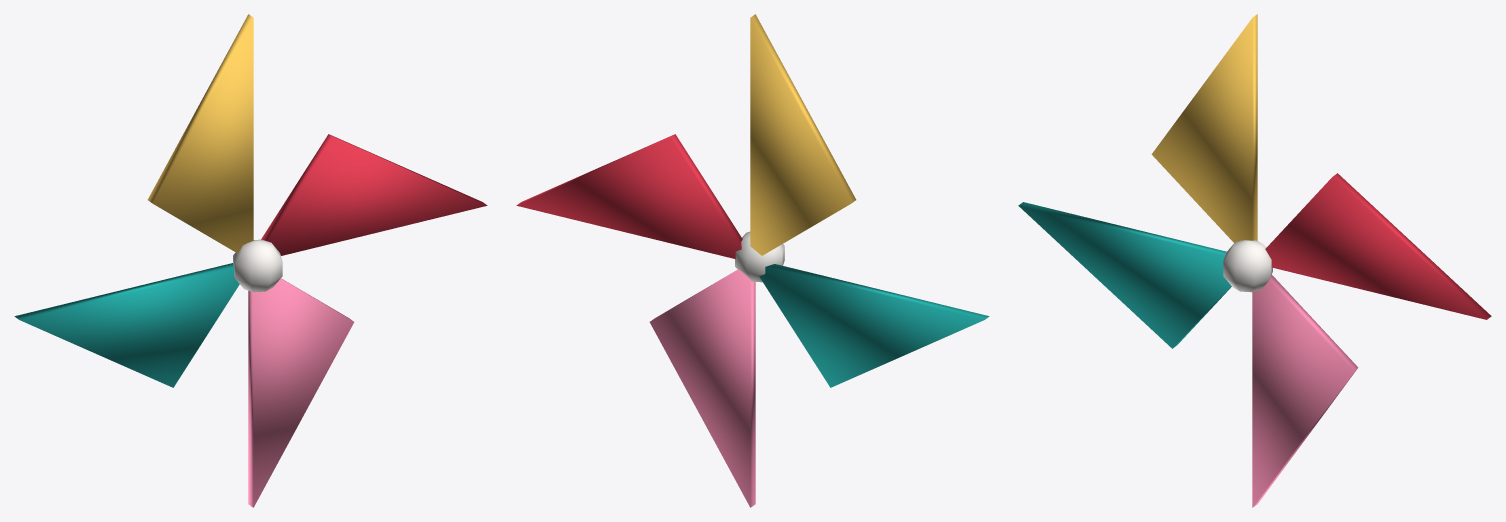
The model's file is sky_pinwheel_wheel.glb.
3 renders of one model, left to right at view 1: azimuth 30°, elevation 25°; view 2: azimuth 150°, elevation 25°; view 3: azimuth 330°, elevation 25°, orthographic.
Visible parts, largest first — view 1: PinwheelWheel; view 2: PinwheelWheel; view 3: PinwheelWheel.
Boxes of the visible parts, x1,y1,x2,y2 form: PinwheelWheel: (14, 14, 487, 507); PinwheelWheel: (516, 14, 989, 507); PinwheelWheel: (1018, 14, 1491, 507).
Bounding box in the file's own units: 1.6 × 1.6 × 0.1522.
